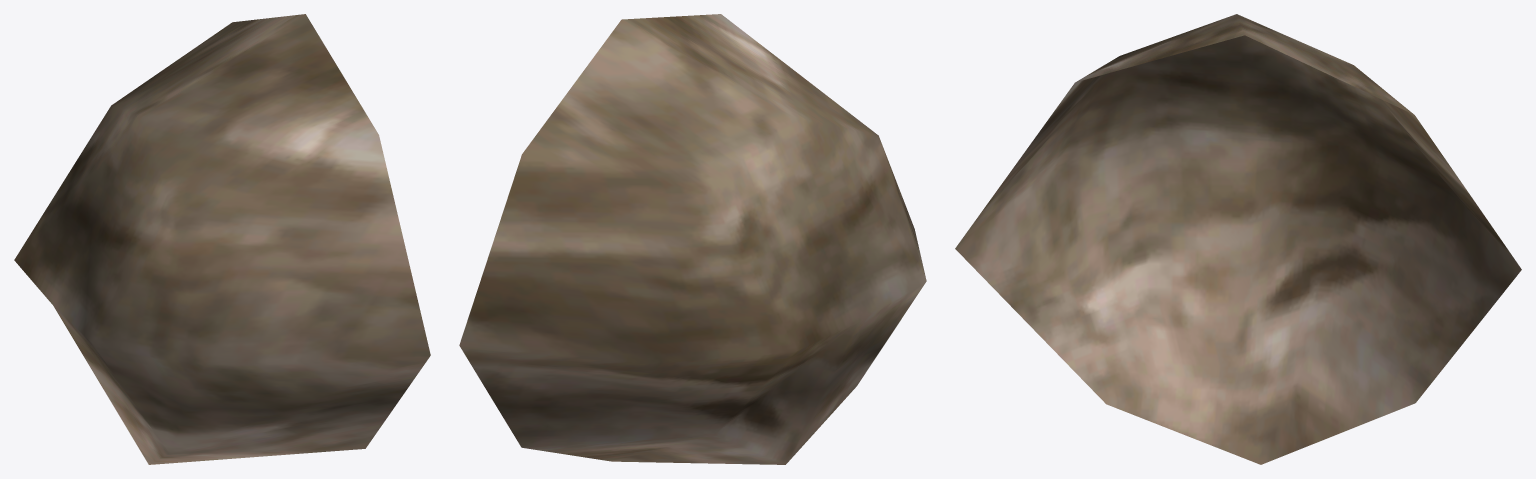
File: OVERHILL_A_01_ROCK68.fbx
3 views of the same model, side by side, from view 1: azimuth 30°, elevation 25°; view 2: azimuth 150°, elevation 25°; view 3: azimuth 270°, elevation 25° (orthographic).
Parts seen in each view (by area): view 1: OVERHILL_A_01_ROCK68; view 2: OVERHILL_A_01_ROCK68; view 3: OVERHILL_A_01_ROCK68.
Part boxes in pixels (x1,y1,x2,y2): OVERHILL_A_01_ROCK68: (14, 14, 430, 464); OVERHILL_A_01_ROCK68: (459, 14, 926, 464); OVERHILL_A_01_ROCK68: (955, 14, 1521, 464).
Size of the model in its own units: 3123 by 4642 by 5559.
1 material, 1 textured.
